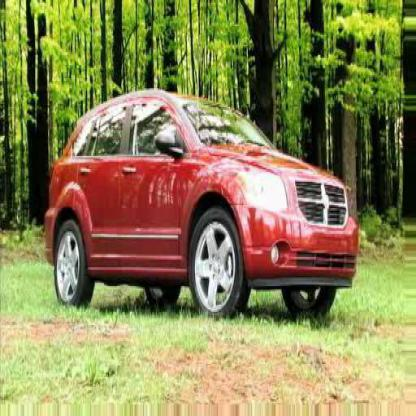Vehicle: (42, 84, 362, 334)
